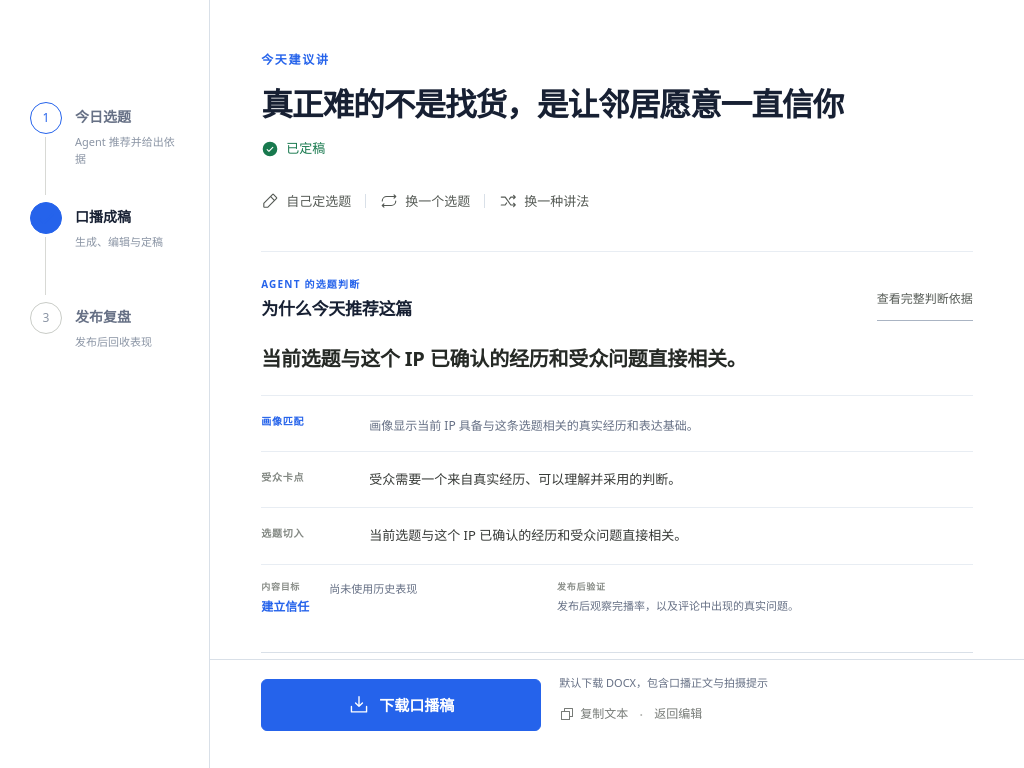
it: approved AI-native page hierarchy › keeps a locked script read-only until the user explicitly returns to editing
The image size is (1024, 768).
Click the button "返回编辑" at (678, 714), box top-left (654, 692), bottom-right (702, 736)
(page scrolled)
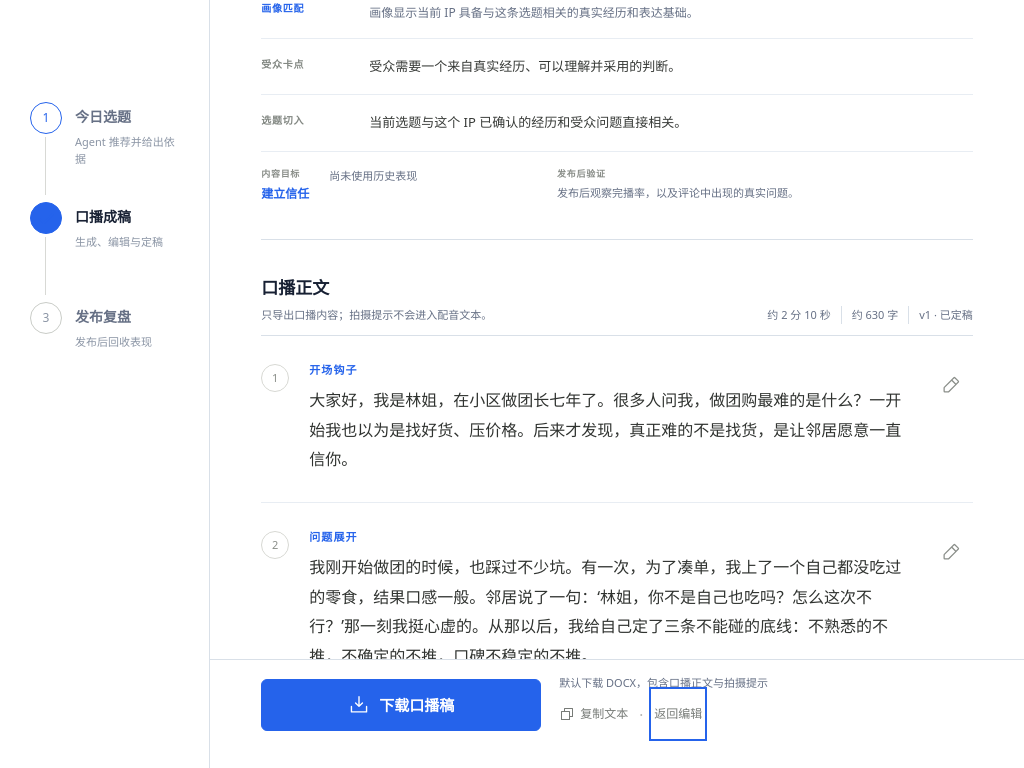
Expected: the button named "编辑第 1 段" is shown, top-left (929, 363), bottom-right (973, 407)
